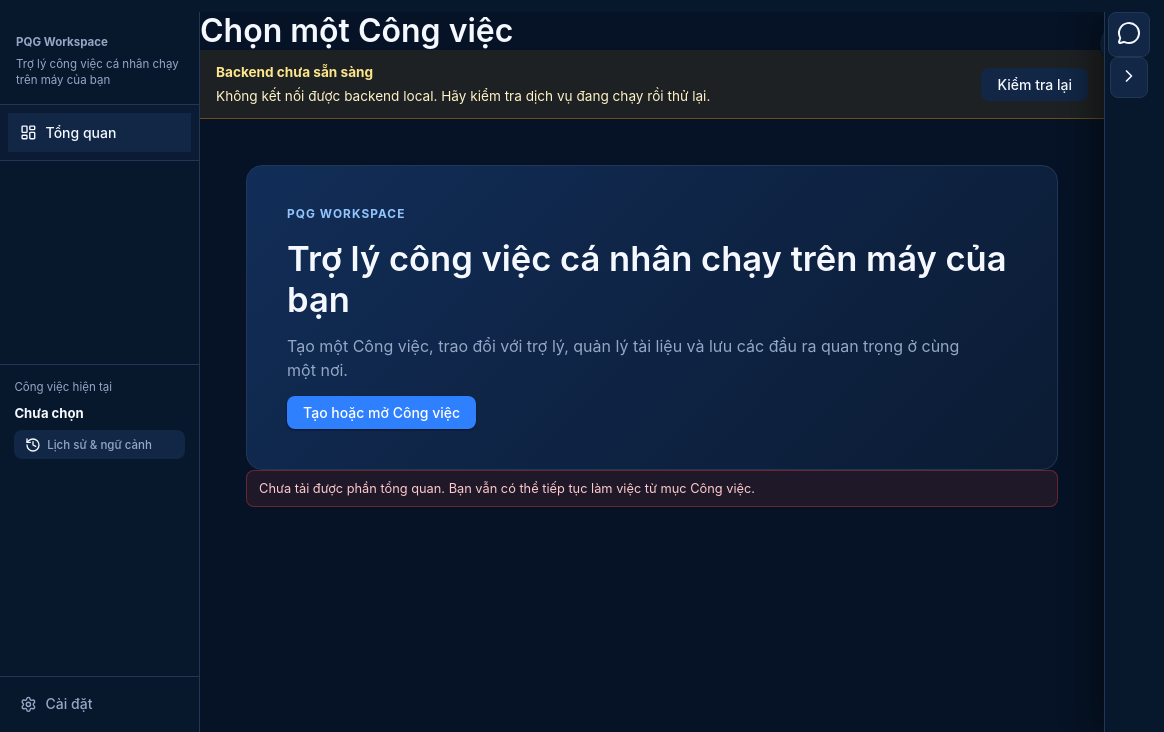
it: AppLayout › cho phép kiểm tra lại backend từ banner
This screenshot has width=1164, height=732.
Click the button "Kiểm tra lại" at [1035, 84], box [982,68,1088,101]
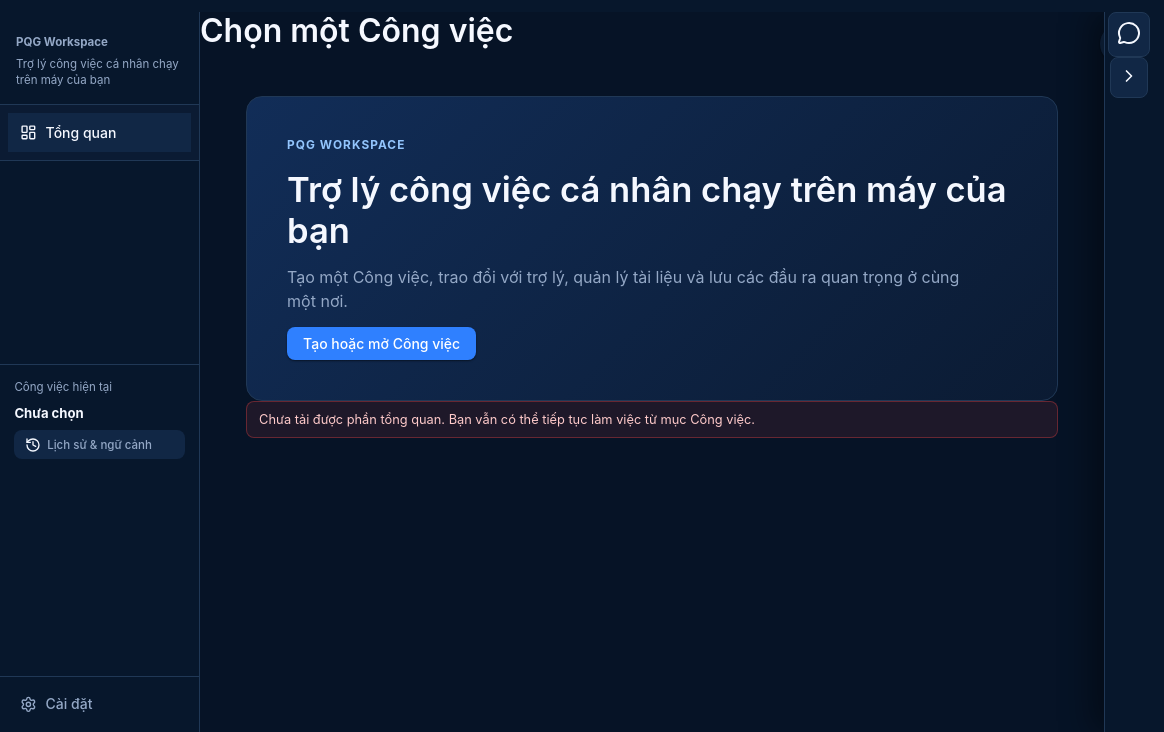
Result: the text "Backend chưa sẵn sàng" is gone
